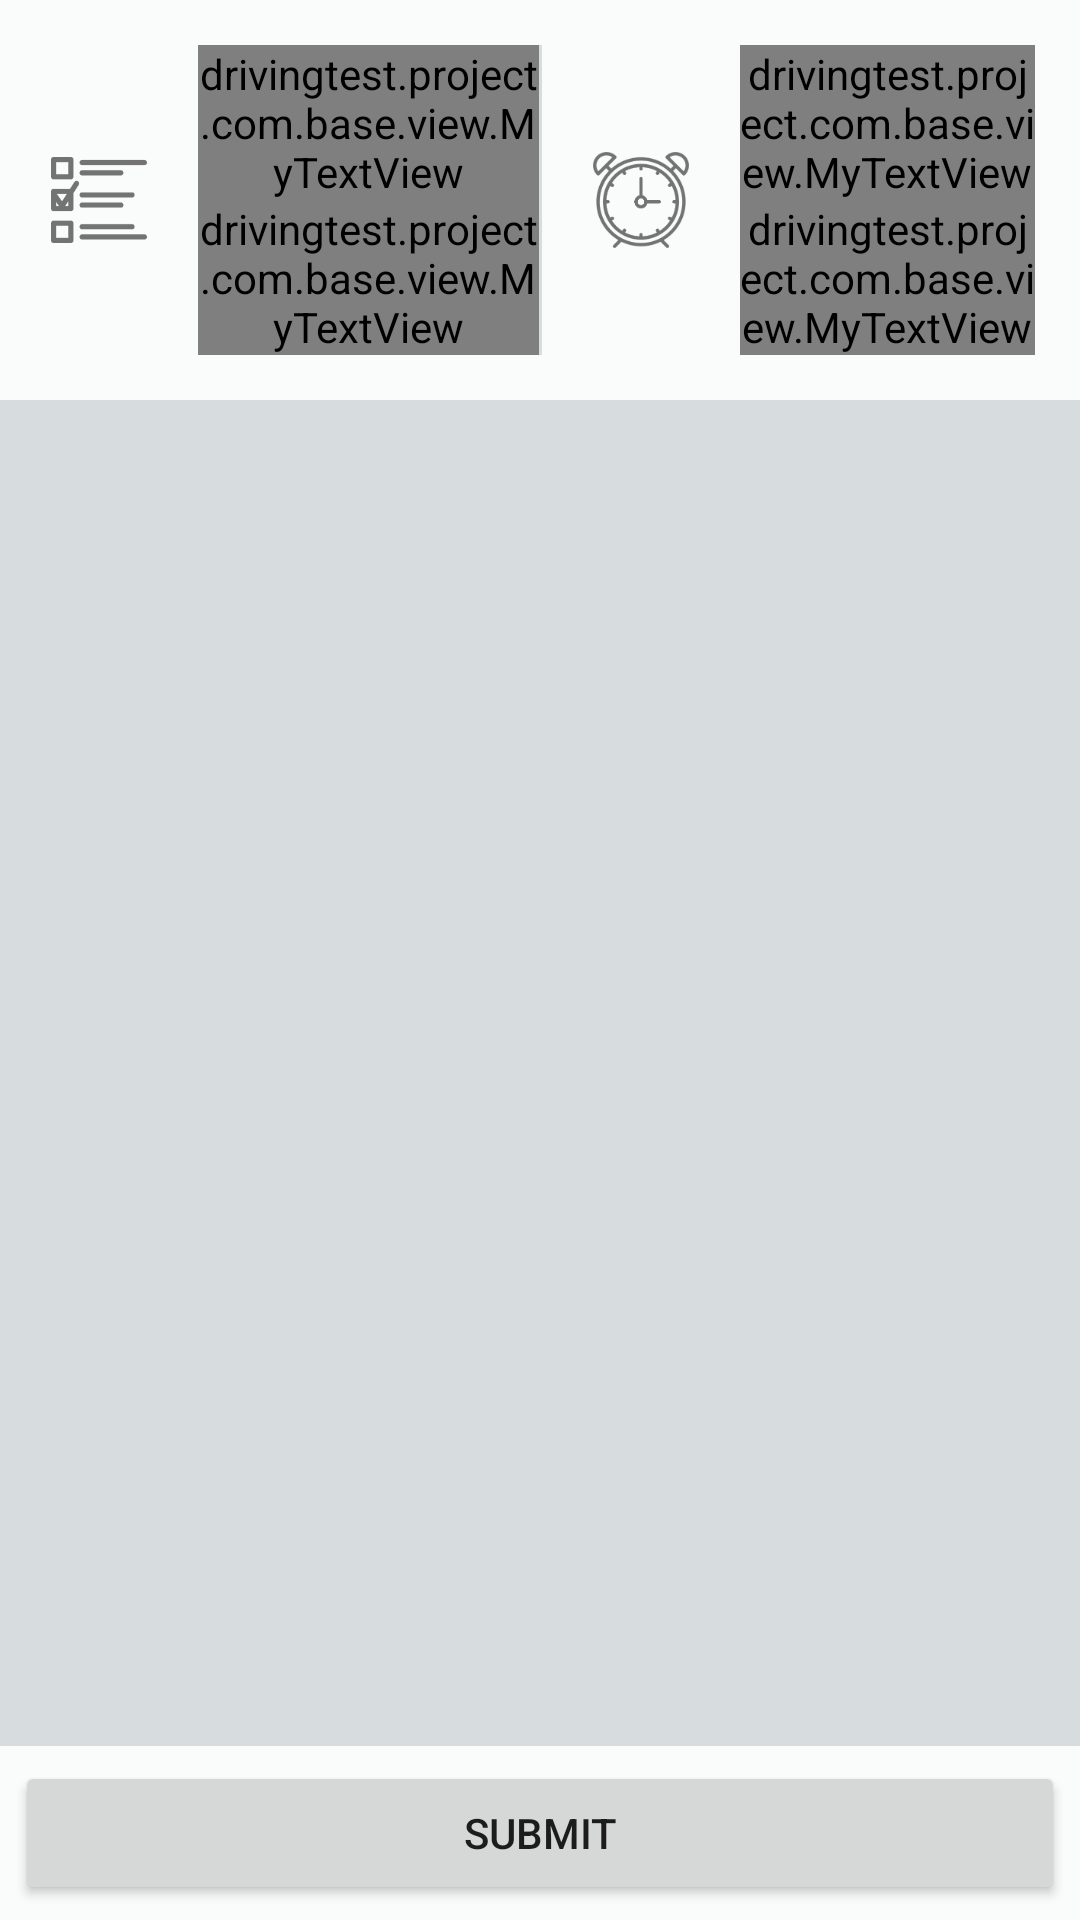

Icon click points for this 1080×1920 phone screenshot, format (x=x, y=y):
alarm clock: (x=641, y=200)
